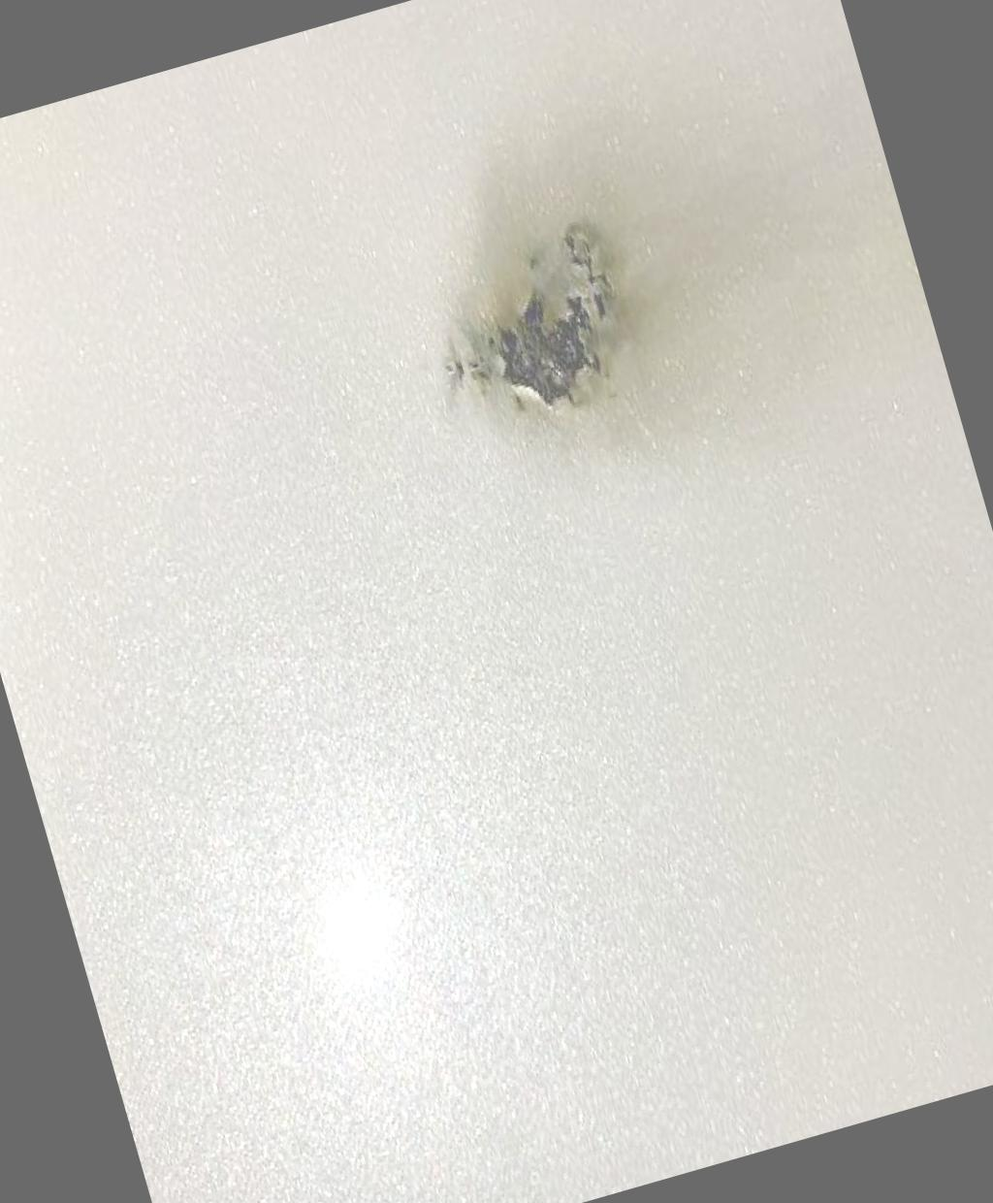corrosion: (421, 206, 666, 452)
